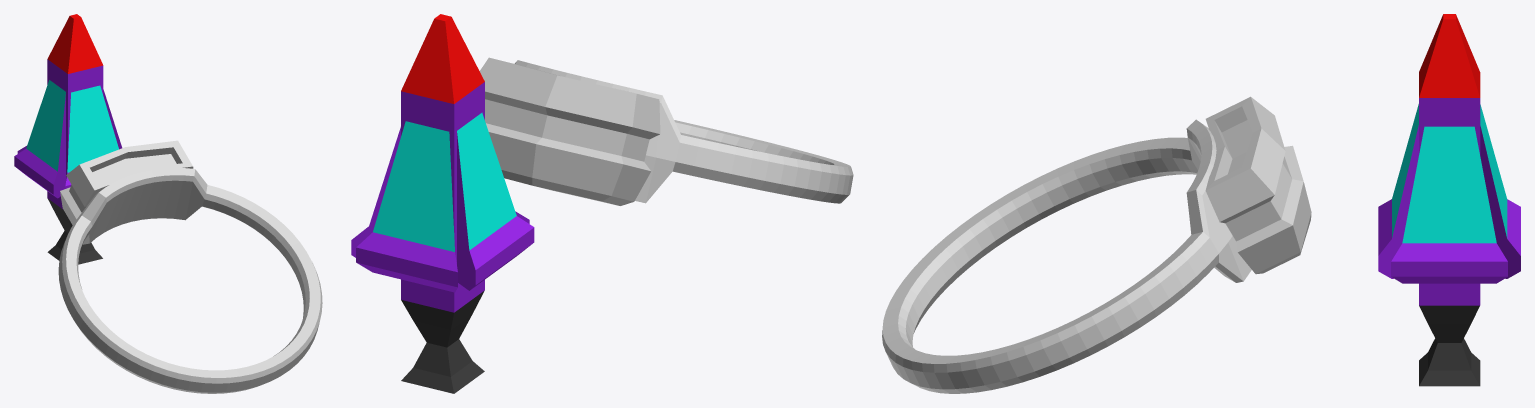
The model's file is racket.fbx.
3 renders of one model, left to right at view 1: azimuth 30°, elevation 25°; view 2: azimuth 150°, elevation 25°; view 3: azimuth 270°, elevation 25°, orthographic. The views are drawn at different scales.
Visible parts, largest first — view 1: Sphere, Cube.001, Cube; view 2: Cube.001, Cube, Sphere; view 3: Sphere, Cube.001, Cube.
Part boxes in pixels (left/top/right/bottom): Sphere: left=58, top=168, right=322, bottom=393; Cube.001: left=14, top=14, right=122, bottom=264; Cube: left=60, top=140, right=193, bottom=224; Cube.001: left=351, top=14, right=534, bottom=393; Cube: left=479, top=57, right=660, bottom=205; Sphere: left=514, top=60, right=853, bottom=203; Sphere: left=882, top=119, right=1251, bottom=393; Cube.001: left=1378, top=14, right=1520, bottom=386; Cube: left=1205, top=96, right=1311, bottom=274.
Size of the model in its own units: 229 by 225 by 365.
